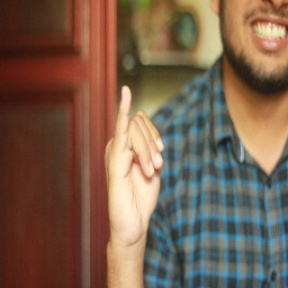I: (100, 85, 169, 242)
